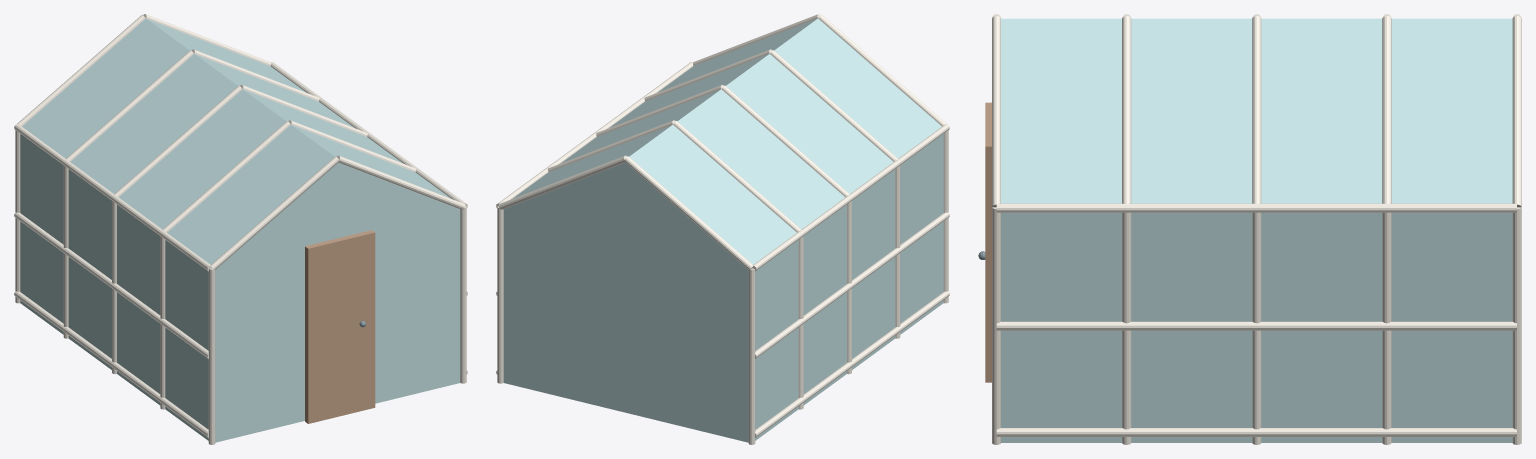
File: greenhouse.glb
3 renders of one model, left to right at view 1: azimuth 30°, elevation 25°; view 2: azimuth 150°, elevation 25°; view 3: azimuth 270°, elevation 25°, orthographic. The views are drawn at different scales.
Visible parts, largest first — view 1: greenhouse_000, greenhouse_001, greenhouse_028, greenhouse_026, greenhouse_022, greenhouse_024, greenhouse_002, greenhouse_012, greenhouse_027, greenhouse_003, greenhouse_013, greenhouse_011 (+11 smaller); view 2: greenhouse_000, greenhouse_001, greenhouse_026, greenhouse_022, greenhouse_024, greenhouse_010, greenhouse_020, greenhouse_027, greenhouse_011, greenhouse_021, greenhouse_003, greenhouse_005 (+10 smaller); view 3: greenhouse_000, greenhouse_001, greenhouse_027, greenhouse_025, greenhouse_023, greenhouse_020, greenhouse_018, greenhouse_014, greenhouse_016, greenhouse_012, greenhouse_028, greenhouse_021 (+4 smaller).
Boxes of the visible parts, left/top/right/bottom form: greenhouse_000: left=20, top=134, right=460, bottom=442; greenhouse_001: left=22, top=18, right=456, bottom=266; greenhouse_028: left=305, top=230, right=375, bottom=423; greenhouse_026: left=14, top=124, right=211, bottom=271; greenhouse_022: left=14, top=291, right=208, bottom=437; greenhouse_024: left=14, top=212, right=208, bottom=358; greenhouse_002: left=208, top=268, right=215, bottom=444; greenhouse_012: left=460, top=206, right=466, bottom=383; greenhouse_027: left=270, top=62, right=467, bottom=207; greenhouse_003: left=210, top=156, right=339, bottom=269; greenhouse_013: left=336, top=155, right=465, bottom=209; greenhouse_011: left=17, top=14, right=145, bottom=126; greenhouse_000: left=503, top=134, right=943, bottom=442; greenhouse_001: left=507, top=18, right=941, bottom=266; greenhouse_026: left=752, top=124, right=949, bottom=271; greenhouse_022: left=755, top=291, right=949, bottom=437; greenhouse_024: left=755, top=212, right=949, bottom=358; greenhouse_010: left=748, top=268, right=755, bottom=444; greenhouse_020: left=497, top=206, right=503, bottom=383; greenhouse_027: left=496, top=62, right=693, bottom=207; greenhouse_011: left=624, top=156, right=753, bottom=269; greenhouse_021: left=498, top=155, right=627, bottom=209; greenhouse_003: left=818, top=14, right=946, bottom=126; greenhouse_005: left=770, top=50, right=897, bottom=161; greenhouse_000: left=1001, top=212, right=1512, bottom=442; greenhouse_001: left=1001, top=18, right=1512, bottom=203; greenhouse_027: left=996, top=203, right=1516, bottom=212; greenhouse_025: left=996, top=321, right=1516, bottom=330; greenhouse_023: left=996, top=428, right=1516, bottom=436; greenhouse_020: left=1512, top=207, right=1521, bottom=444; greenhouse_018: left=1382, top=212, right=1391, bottom=444; greenhouse_014: left=1122, top=212, right=1131, bottom=444; greenhouse_016: left=1252, top=212, right=1261, bottom=444; greenhouse_012: left=992, top=207, right=1000, bottom=444; greenhouse_028: left=985, top=102, right=991, bottom=382; greenhouse_021: left=1512, top=16, right=1521, bottom=207.
Size of the model in its own units: 3.11 by 2.93 by 4.18.
